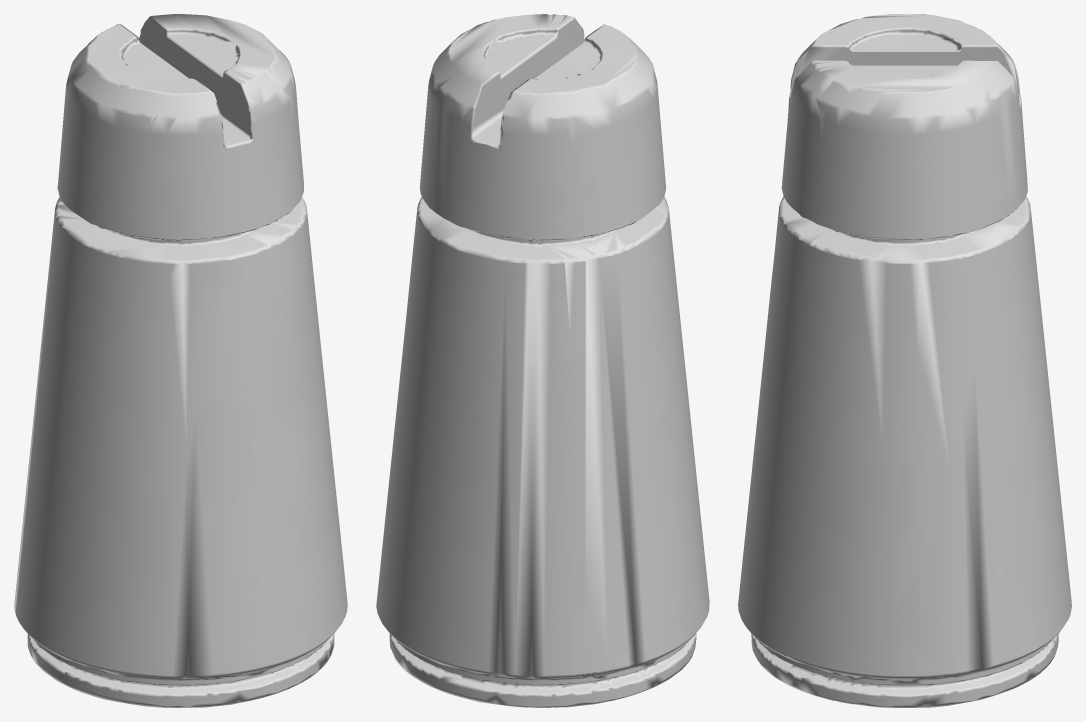
The model's file is rook-white.glb.
3 views of the same model, side by side, from view 1: azimuth 30°, elevation 25°; view 2: azimuth 150°, elevation 25°; view 3: azimuth 270°, elevation 25° (orthographic).
Visible parts, largest first — view 1: 05_vez_bila; view 2: 05_vez_bila; view 3: 05_vez_bila.
Part boxes in pixels (x1,y1,x2,y2): 05_vez_bila: (14, 14, 347, 707); 05_vez_bila: (376, 14, 709, 707); 05_vez_bila: (738, 14, 1071, 707).
Size of the model in its own units: 0.5928 by 1.16 by 0.5931.
1 material, 1 textured.
